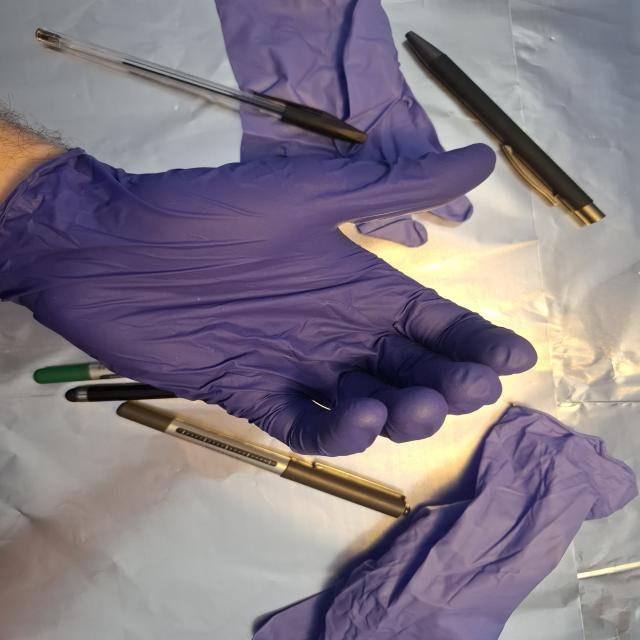glove_on: (7, 138, 546, 462)
